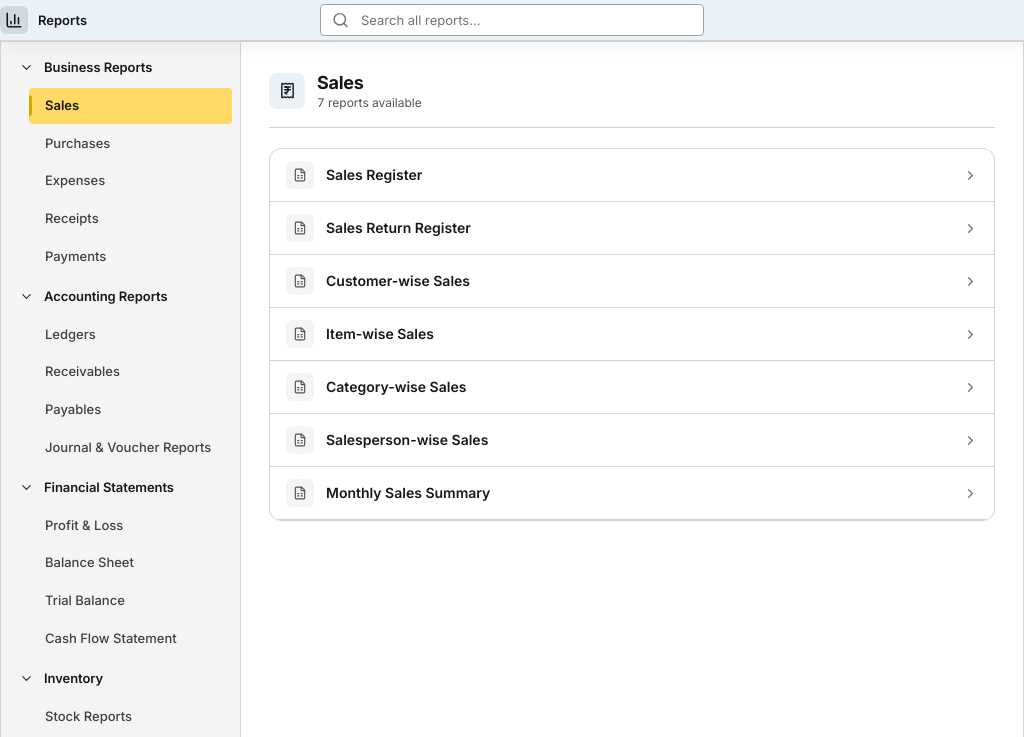
Scenario: ReportsWorkspace › changes the default columns and aggregates data for customer-wise sales
This screenshot has width=1024, height=737.
Click the button "Customer-wise Sales" at x=398, y=281, box [270,255,994,308]
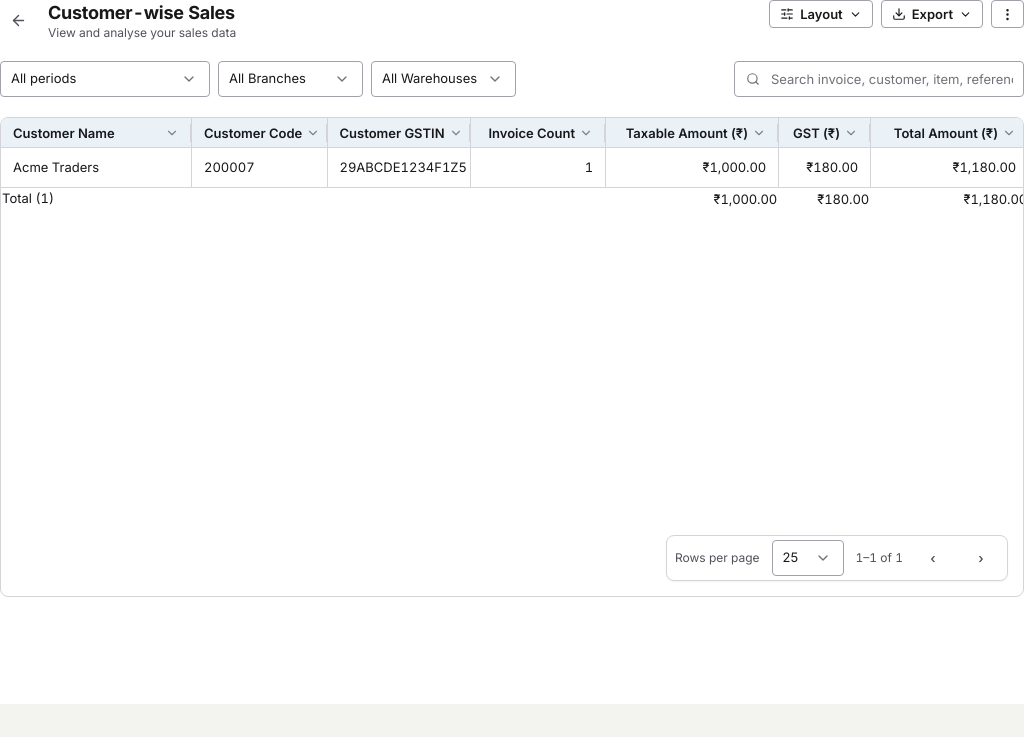
Expected: the column heading "Customer Code" is shown, [191,118,326,148]
Expected: the column heading "Invoice Count" is shown, [470,118,605,148]
Expected: the text "Acme Traders" is shown, [1,148,191,188]
